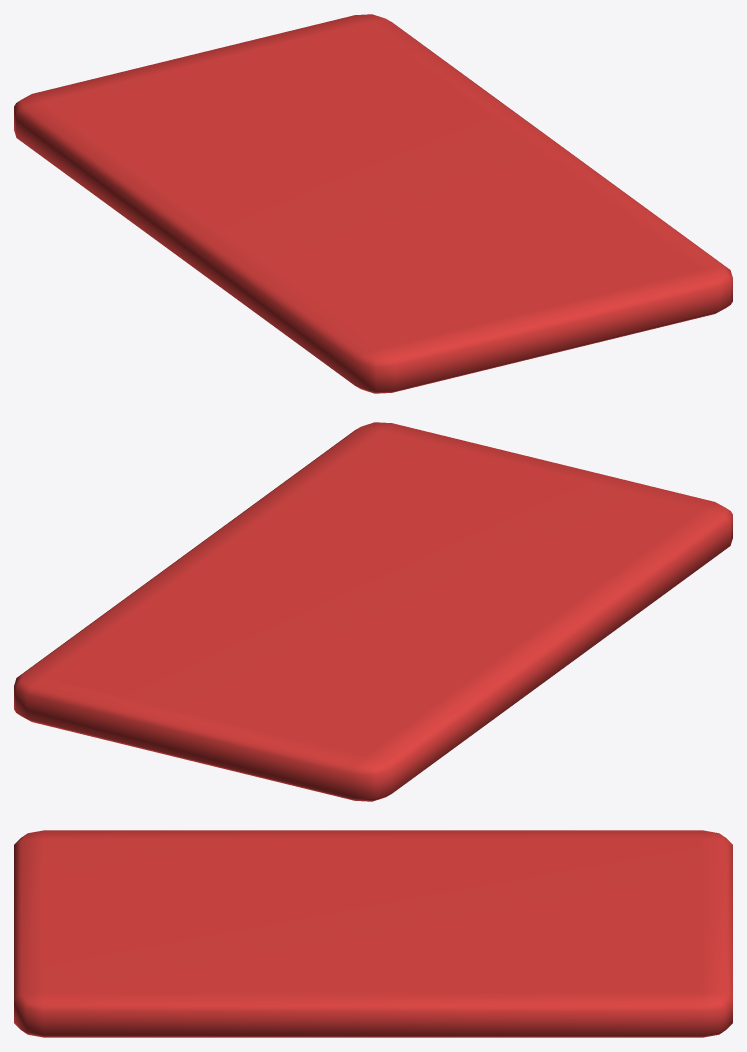
Rendered from Yoga_Mat_v01.fbx.
The picture shows the model from 3 angles, top to bottom: view 1: azimuth 30°, elevation 25°; view 2: azimuth 150°, elevation 25°; view 3: azimuth 270°, elevation 25°; orthographic projection. The views are drawn at different scales.
Parts seen in each view (by area): view 1: Yoga_Mat_v01; view 2: Yoga_Mat_v01; view 3: Yoga_Mat_v01.
Boxes of the visible parts, x1,y1,x2,y2 form: Yoga_Mat_v01: [14, 14, 732, 393]; Yoga_Mat_v01: [14, 422, 732, 801]; Yoga_Mat_v01: [14, 830, 732, 1037].
Bounding box in the file's own units: 0.5892 × 0.054 × 0.9997.
1 material, 1 textured.
